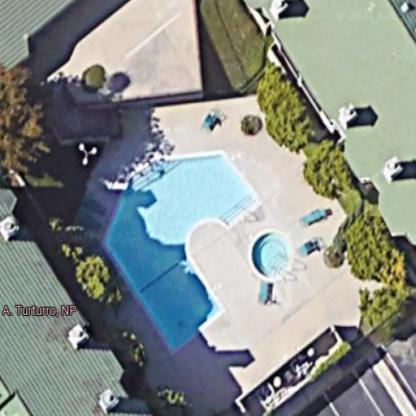pool: (89, 147, 268, 362)
